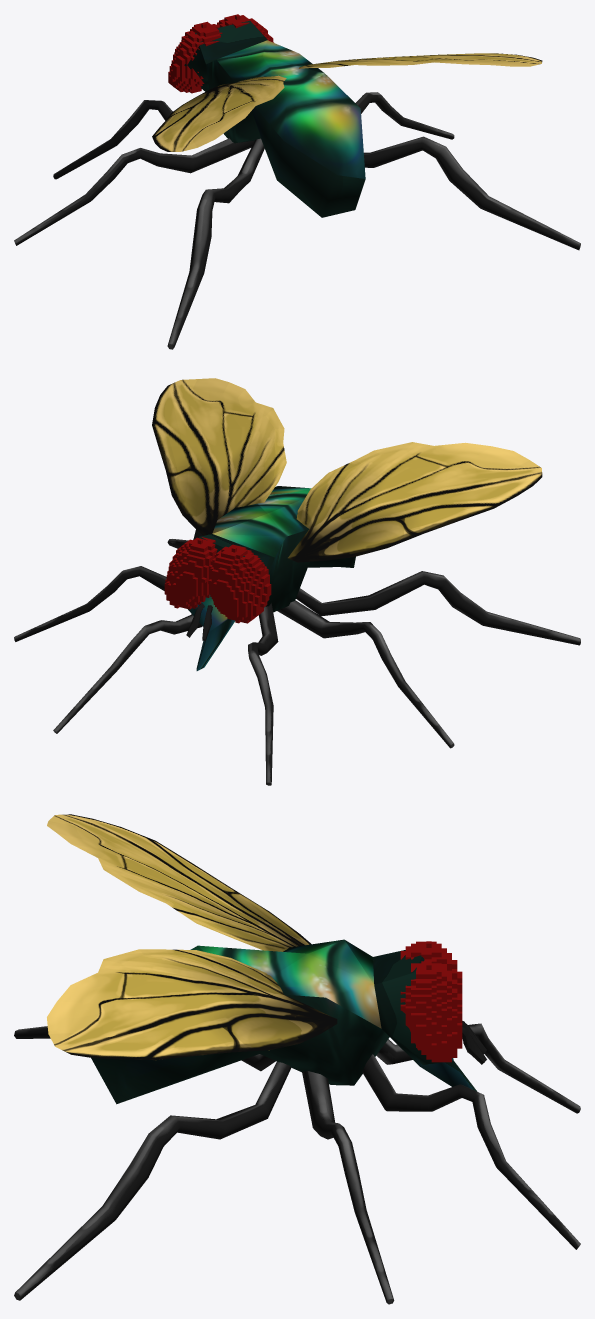
File: fly.fbx
The picture shows the model from 3 angles, top to bottom: view 1: azimuth 30°, elevation 25°; view 2: azimuth 150°, elevation 25°; view 3: azimuth 270°, elevation 25°; orthographic projection. The views are drawn at different scales.
Visible parts, largest first — view 1: Cube.001_Material.005_0, Cube.003_Material.004_0, NurbsPath.002_Material.002_0, NurbsPath.001_Material.002_0, Cube.004_Material.003_0, NurbsPath_Material.002_0; view 2: Cube.003_Material.004_0, Cube.001_Material.005_0, Cube.004_Material.003_0, NurbsPath.002_Material.002_0, NurbsPath.001_Material.002_0, NurbsPath_Material.002_0; view 3: Cube.003_Material.004_0, Cube.001_Material.005_0, NurbsPath.002_Material.002_0, NurbsPath_Material.002_0, Cube.004_Material.003_0, NurbsPath.001_Material.002_0.
Part boxes in pixels (box(x1,y1,x2,y2)): Cube.001_Material.005_0: box(184, 20, 365, 217); Cube.003_Material.004_0: box(152, 53, 542, 151); NurbsPath.002_Material.002_0: box(167, 136, 580, 349); NurbsPath.001_Material.002_0: box(14, 92, 454, 245); Cube.004_Material.003_0: box(168, 14, 273, 93); NurbsPath_Material.002_0: box(53, 100, 172, 179); Cube.003_Material.004_0: box(152, 378, 542, 562); Cube.001_Material.005_0: box(188, 486, 355, 670); Cube.004_Material.003_0: box(164, 537, 271, 623); NurbsPath.002_Material.002_0: box(167, 529, 580, 645); NurbsPath.001_Material.002_0: box(14, 566, 454, 748); NurbsPath_Material.002_0: box(53, 603, 278, 785); Cube.003_Material.004_0: box(47, 814, 337, 1060); Cube.001_Material.005_0: box(91, 939, 476, 1104); NurbsPath.002_Material.002_0: box(14, 1026, 290, 1300); NurbsPath_Material.002_0: box(362, 1023, 580, 1249); Cube.004_Material.003_0: box(400, 941, 462, 1062); NurbsPath.001_Material.002_0: box(302, 1071, 394, 1304).
Bounding box in the file's own units: 933 × 412 × 793.
Materials: 4 (3 with a texture image).
